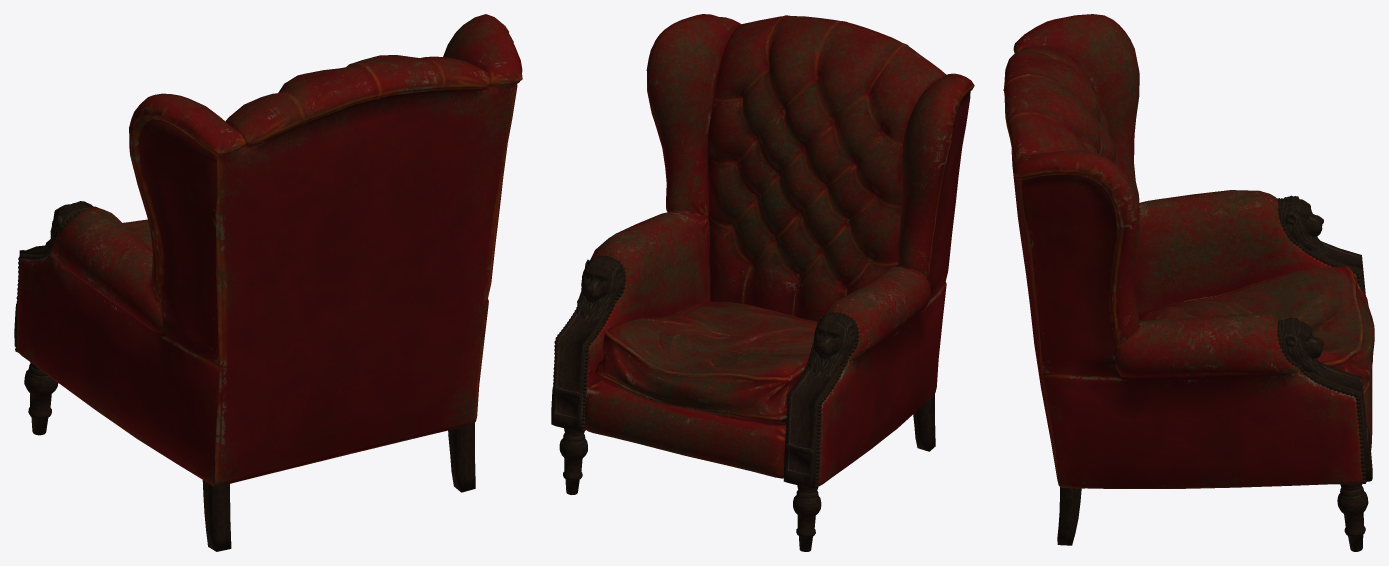
The model's file is construct chair.fbx.
3 views of the same model, side by side, from view 1: azimuth 30°, elevation 25°; view 2: azimuth 150°, elevation 25°; view 3: azimuth 270°, elevation 25° (orthographic). The views are drawn at different scales.
Parts seen in each view (by area): view 1: Body_low, FeetBack_low, FeetFront_low, Lions_low; view 2: Body_low, Cushion_low, Wood_low, Lions_low, FeetFront_low, Balls_low, FeetBack_low; view 3: Body_low, Cushion_low, Lions_low, Wood_low, FeetFront_low, Balls_low, FeetBack_low.
Part boxes in pixels (x1,y1,x2,y2): Body_low: (16, 14, 522, 486); FeetBack_low: (202, 422, 475, 551); FeetFront_low: (24, 362, 58, 435); Lions_low: (45, 201, 97, 249); Body_low: (584, 14, 974, 486); Cushion_low: (595, 301, 817, 425); Wood_low: (551, 307, 841, 488); Lions_low: (576, 256, 856, 379); FeetFront_low: (559, 428, 821, 551); Balls_low: (553, 255, 859, 488); FeetBack_low: (913, 394, 935, 451); Body_low: (1003, 14, 1372, 488); Cushion_low: (1138, 266, 1374, 395); Lions_low: (1280, 195, 1329, 378); Wood_low: (1307, 241, 1372, 481); FeetFront_low: (1337, 483, 1368, 551); Balls_low: (1277, 198, 1366, 483); FeetBack_low: (1057, 487, 1081, 545).
Bounding box in the file's own units: 164 × 200 × 162.
